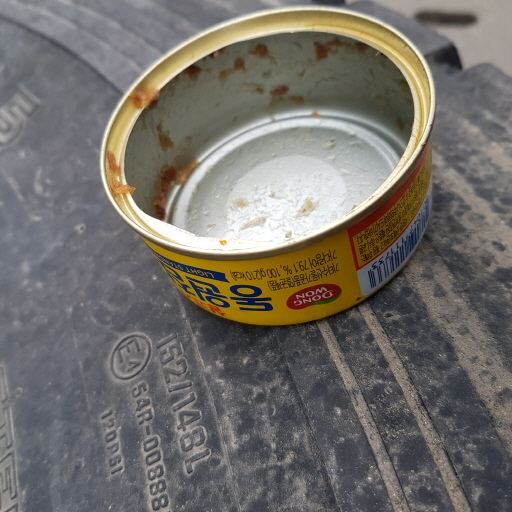Metal_1: (99, 6, 439, 326)
